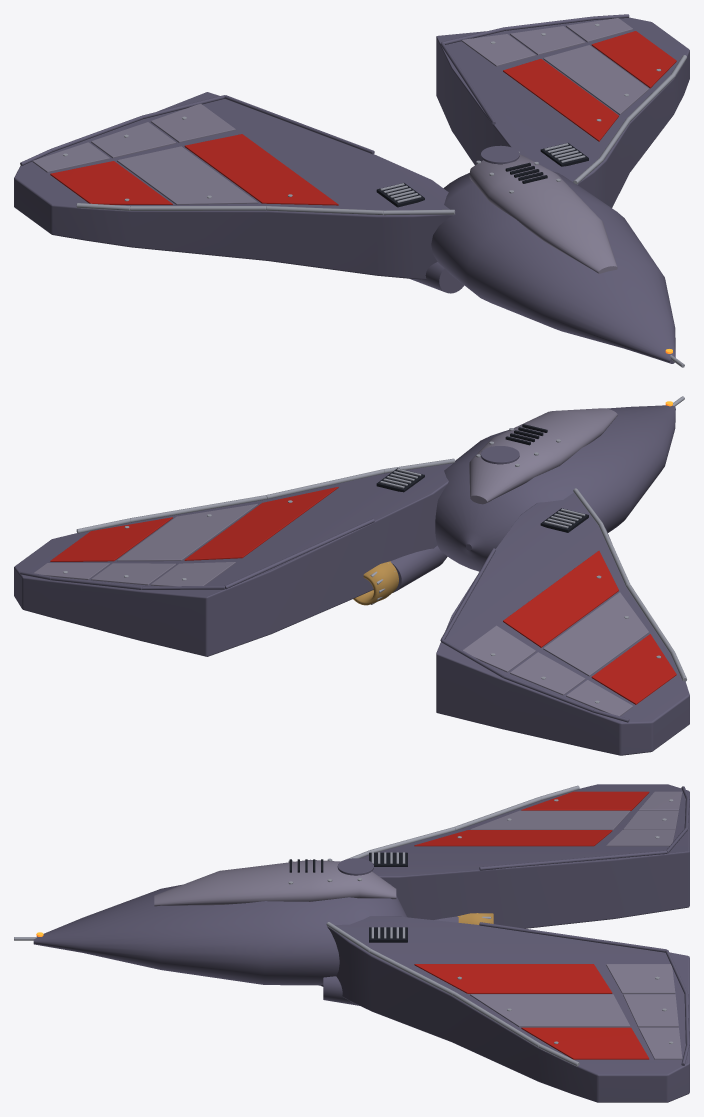
3 views of the same model, one above another, from view 1: azimuth 30°, elevation 25°; view 2: azimuth 150°, elevation 25°; view 3: azimuth 270°, elevation 25° (orthographic). The views are drawn at different scales.
Parts seen in each view (by area): view 1: Swept structural wing, Eagle continuous pressure hull, Swept structural wing.001, Eagle dorsal service spine, Segmented wing identification enamel, Segmented wing identification enamel.001, Segmented wing identification enamel.003, Segmented wing identification enamel.004, Segmented wing identification enamel.002, Segmented wing identification enamel.005, Wing trailing service panel, Wing trailing service panel.001 (+9 smaller); view 2: Swept structural wing.001, Swept structural wing, Eagle continuous pressure hull, Eagle dorsal service spine, Segmented wing identification enamel, Segmented wing identification enamel.001, Segmented wing identification enamel.003, Segmented wing identification enamel.004, Segmented wing identification enamel.002, Segmented wing identification enamel.005, Wing trailing service panel, Wing trailing service panel.001 (+10 smaller); view 3: Swept structural wing.001, Swept structural wing, Eagle continuous pressure hull, Eagle dorsal service spine, Segmented wing identification enamel.003, Segmented wing identification enamel.004, Segmented wing identification enamel.005, Segmented wing identification enamel, Segmented wing identification enamel.001, Segmented wing identification enamel.002, Wing trailing service panel.003, Wing trailing service panel.004 (+10 smaller).
Part boxes in pixels (box(x1,y1,x2,y2)): Swept structural wing: box(14, 92, 455, 279); Eagle continuous pressure hull: box(431, 171, 675, 363); Swept structural wing.001: box(436, 17, 689, 207); Eagle dorsal service spine: box(469, 154, 617, 273); Segmented wing identification enamel: box(184, 134, 338, 205); Segmented wing identification enamel.001: box(117, 146, 258, 204); Segmented wing identification enamel.003: box(503, 59, 618, 141); Segmented wing identification enamel.004: box(543, 45, 648, 114); Segmented wing identification enamel.002: box(50, 161, 172, 204); Segmented wing identification enamel.005: box(591, 31, 676, 88); Wing trailing service panel: box(150, 104, 235, 142); Wing trailing service panel.001: box(91, 122, 176, 158); Swept structural wing.001: box(14, 463, 452, 656); Swept structural wing: box(436, 492, 689, 755); Eagle continuous pressure hull: box(435, 405, 675, 571); Eagle dorsal service spine: box(469, 408, 617, 504); Segmented wing identification enamel: box(503, 550, 618, 647); Segmented wing identification enamel.001: box(543, 592, 648, 676); Segmented wing identification enamel.003: box(184, 487, 338, 560); Segmented wing identification enamel.004: box(117, 503, 258, 561); Segmented wing identification enamel.002: box(591, 634, 676, 704); Segmented wing identification enamel.005: box(50, 517, 172, 561); Wing trailing service panel: box(463, 625, 535, 672); Wing trailing service panel.001: box(510, 652, 585, 695); Swept structural wing.001: box(320, 916, 689, 1102); Swept structural wing: box(360, 784, 689, 928); Eagle continuous pressure hull: box(33, 884, 406, 985); Eagle dorsal service spine: box(154, 859, 396, 906); Segmented wing identification enamel.003: box(414, 964, 612, 993); Segmented wing identification enamel.004: box(470, 994, 630, 1027); Segmented wing identification enamel.005: box(521, 1027, 649, 1059); Segmented wing identification enamel: box(414, 830, 612, 846); Segmented wing identification enamel.001: box(470, 810, 630, 830); Segmented wing identification enamel.002: box(521, 791, 649, 810); Wing trailing service panel.003: box(606, 964, 675, 993); Wing trailing service panel.004: box(623, 994, 678, 1027).
Size of the model in its own units: 5.3 by 0.958 by 5.2.
